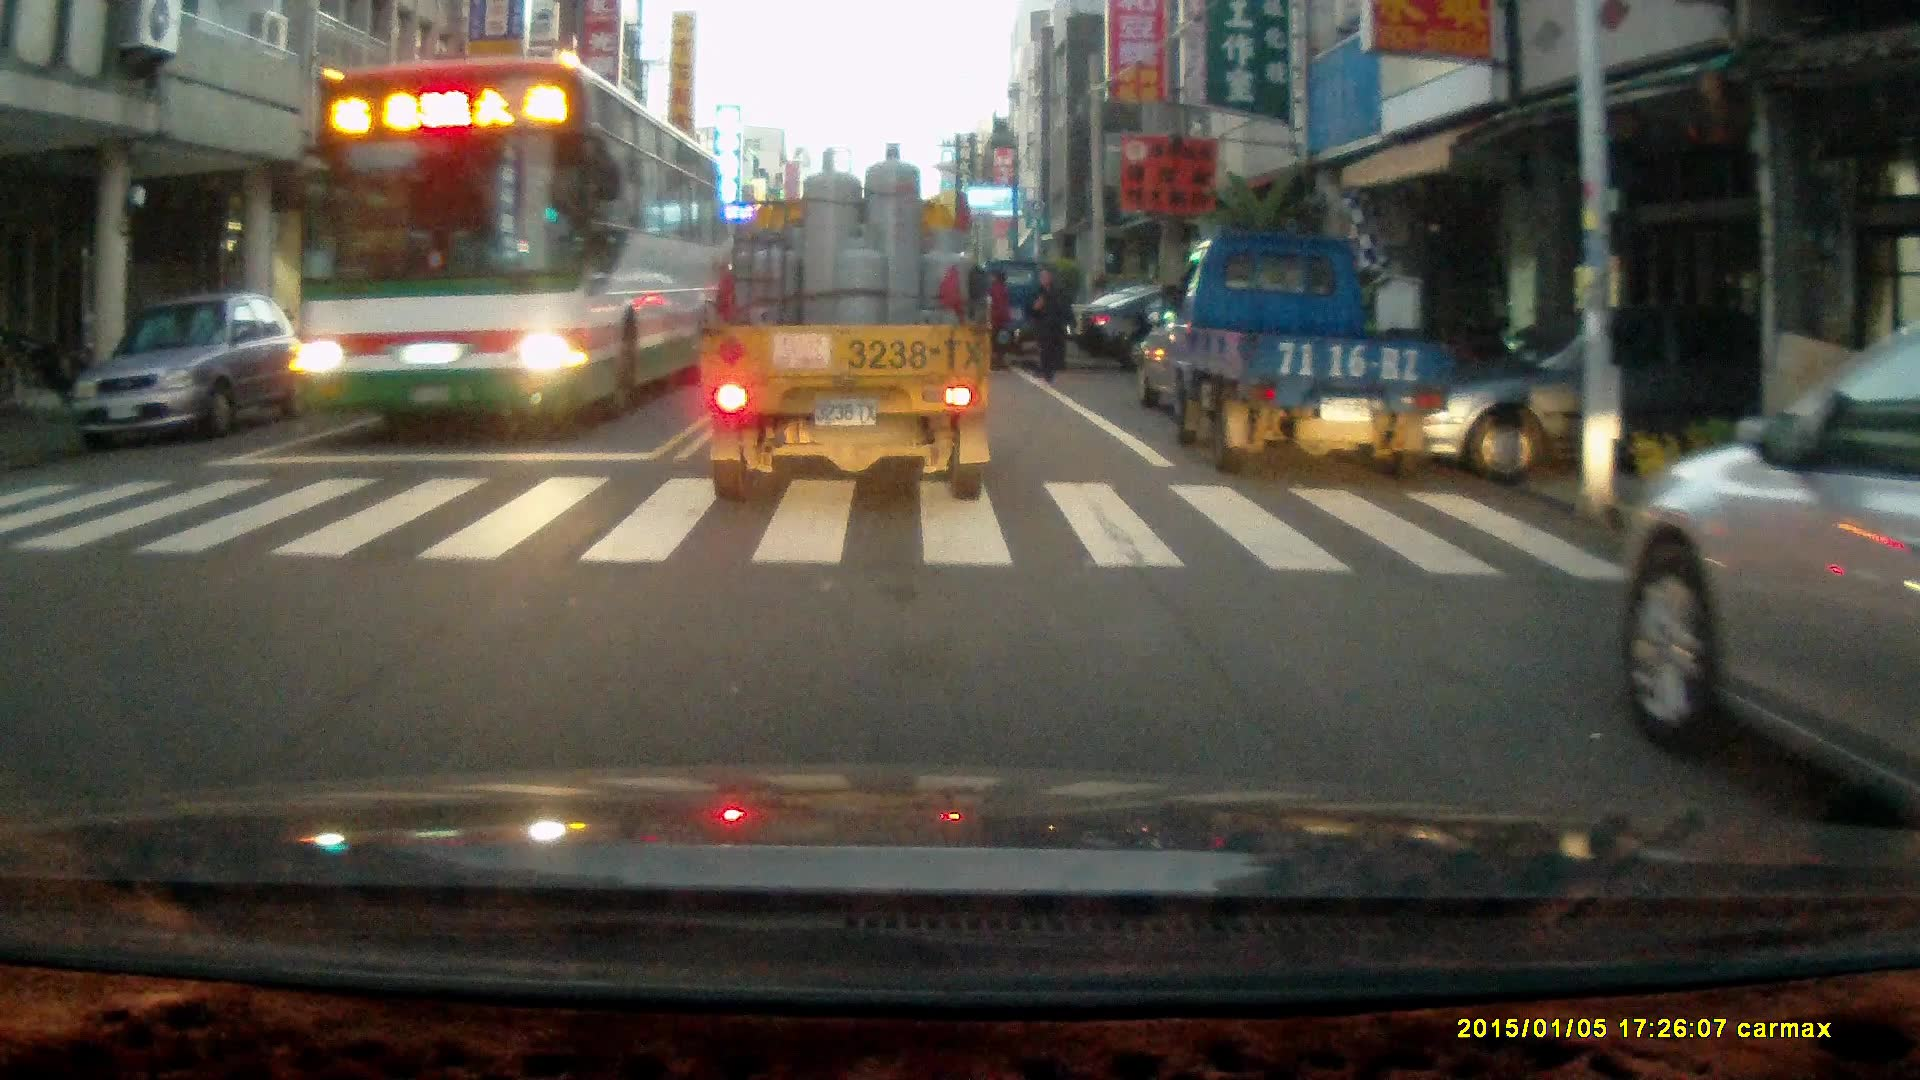pedestrian: (1022, 267, 1074, 383), (981, 263, 1012, 374)
vehicle: (290, 47, 733, 422), (1624, 327, 1920, 840), (696, 140, 998, 504), (1151, 228, 1452, 473), (1446, 356, 1800, 493), (74, 290, 304, 444), (340, 283, 520, 373), (974, 259, 1079, 373)
